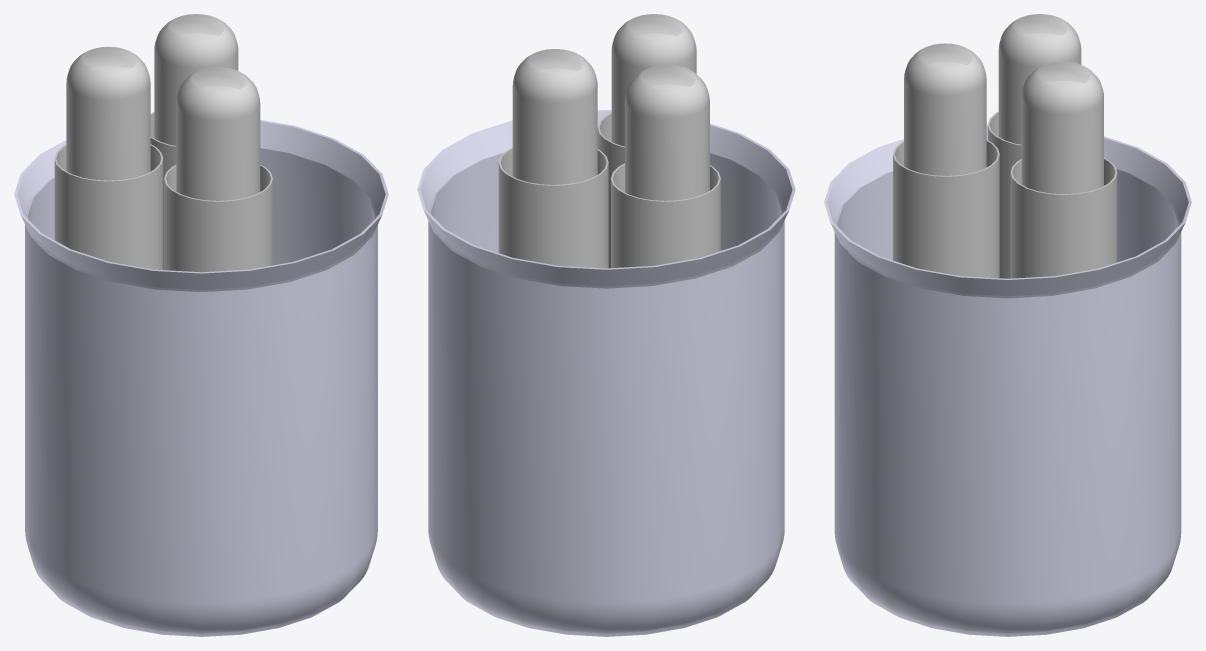
Rendered from beaker.fbx.
The picture shows the model from 3 angles, left to right: view 1: azimuth 30°, elevation 25°; view 2: azimuth 150°, elevation 25°; view 3: azimuth 270°, elevation 25°; orthographic projection. The views are drawn at different scales.
Parts seen in each view (by area): view 1: group_1_group_3; view 2: group_1_group_3; view 3: group_1_group_3.
Part boxes in pixels (<box>): group_1_group_3: <box>14,14,388,636</box>; group_1_group_3: <box>417,14,795,636</box>; group_1_group_3: <box>824,14,1191,636</box>.
Bounding box in the file's own units: 11.07 × 17.09 × 11.07.
